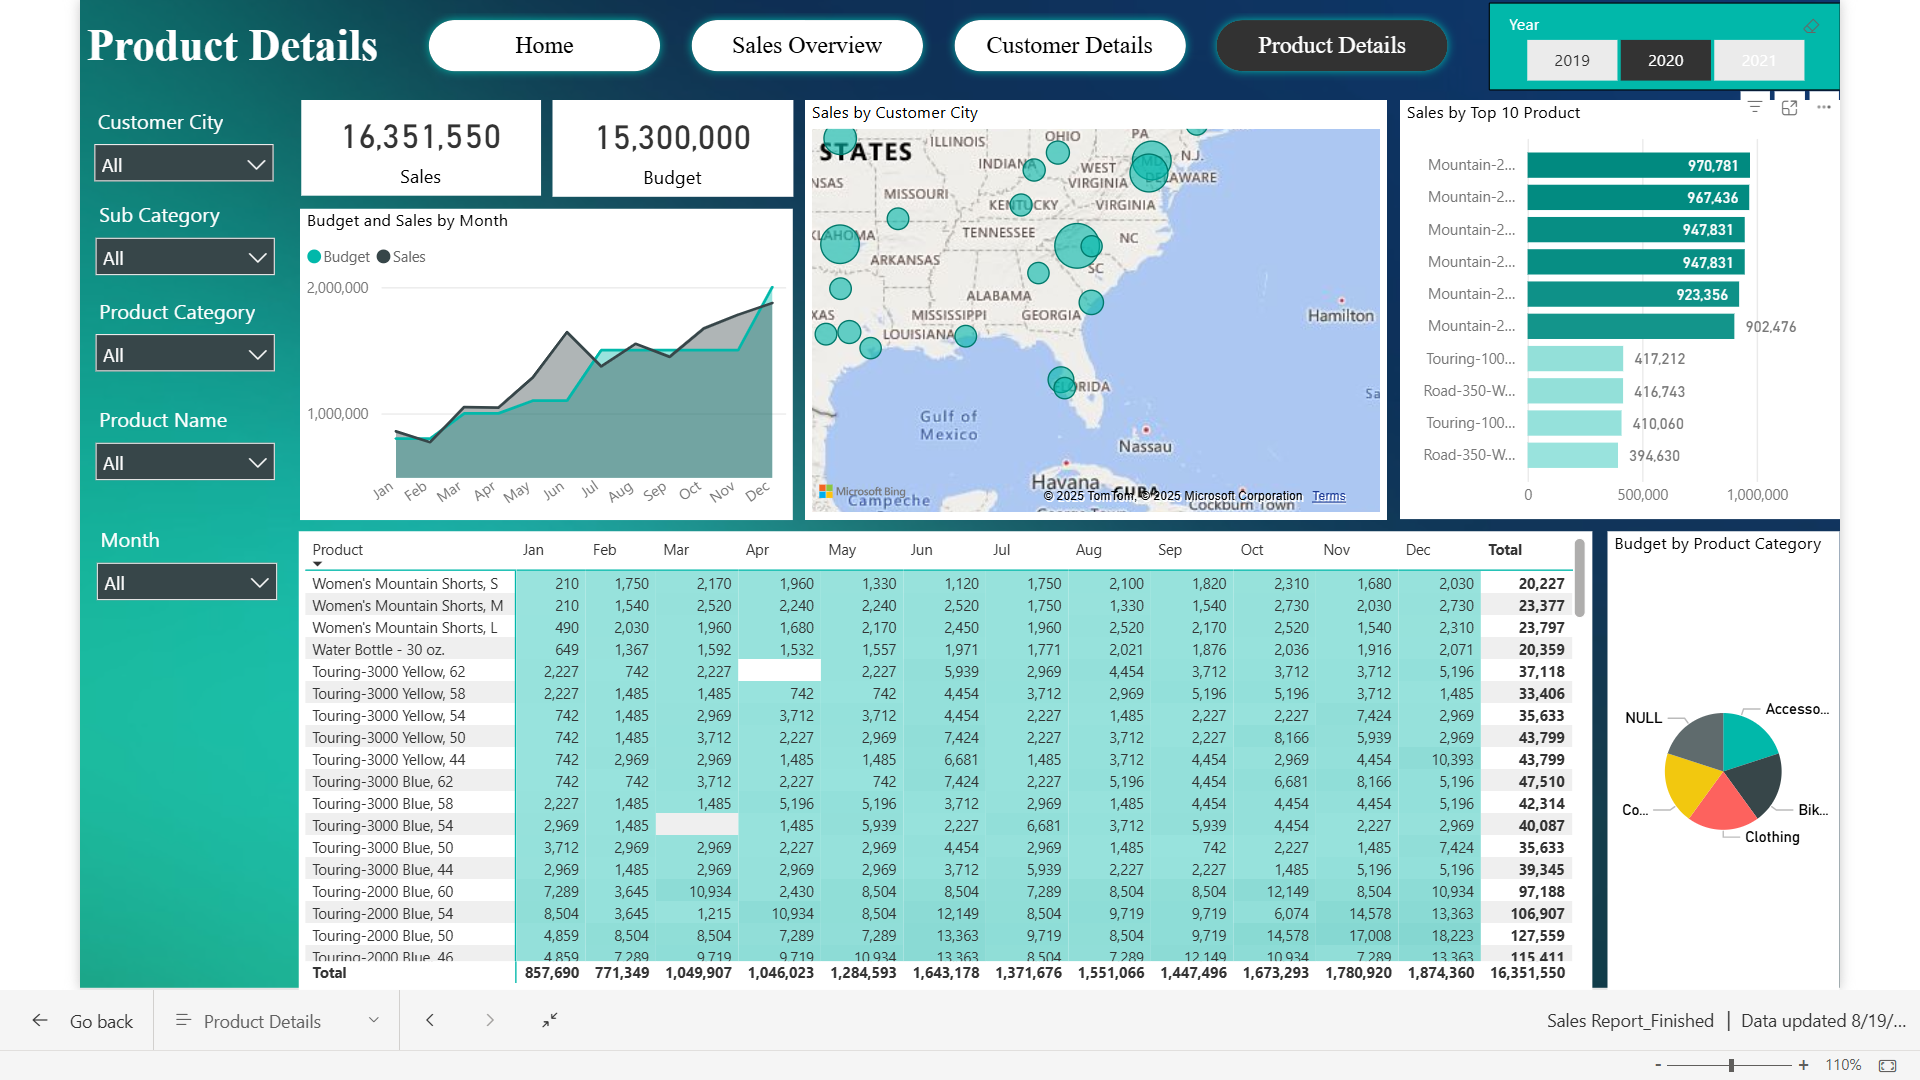

The page's visual inventory and layout, read from the dashboard file:
{"tool":"powerbi","page":{"name":"Product Details","canvas":[1280,720],"ordinal":3},"visuals":[{"type":"textbox","box":[0,8.8,231.2,55],"z":0},{"type":"lineChart","fields":{"Category":["DIM_Calendar.MonthShort"],"Y":["Analysis Metrics.Budget","Analysis Metrics.Sales"]},"box":[159.8,151.8,358.7,226.4],"z":1000},{"type":"card","fields":{"Values":["Analysis Metrics.Sales"]},"box":[160.7,72.8,174,69.2],"z":2000},{"type":"map","fields":{"Category":["DIM_Customers.Customer City"],"Size":["Analysis Metrics.Sales"]},"box":[527.3,72.8,423.5,304.5],"z":3000},{"type":"card","fields":{"Values":["Analysis Metrics.Budget"]},"box":[343.6,72.8,174.9,70.1],"z":4000},{"type":"pivotTable","fields":{"Rows":["DIM_Products.Product Name"],"Columns":["DIM_Calendar.MonthShort"],"Values":["Analysis Metrics.Sales"]},"box":[159.5,386.5,941.1,333.7],"z":5000},{"type":"clusteredBarChart","title":"Sales by Top 10 Product","fields":{"Category":["DIM_Products.Product Name"],"Y":["Analysis Metrics.Sales"]},"box":[959.7,72.8,320.5,304.5],"z":6000},{"type":"slicer","fields":{"Values":["DIM_Customers.Customer City"]},"box":[0,72.4,150.9,78.5],"z":7000},{"type":"slicer","fields":{"Values":["DIM_Products.Sub Category"]},"box":[1.2,141.1,150.9,78.5],"z":8000},{"type":"slicer","fields":{"Values":["DIM_Products.Product Category"]},"box":[1.2,211,150.9,78.5],"z":9000},{"type":"slicer","fields":{"Values":["DIM_Products.Product Name"]},"box":[1.2,289.6,150.9,81],"z":10000},{"type":"slicer","fields":{"Values":["DIM_Calendar.Year"]},"box":[1024.3,1.4,255.7,64.3],"z":11000},{"type":"slicer","fields":{"Values":["DIM_Calendar.Month"]},"box":[1.4,377.1,151.4,80],"z":12000},{"type":"pageNavigator","box":[247.1,8.6,754.3,50],"z":13000},{"type":"pieChart","fields":{"Category":["DIM_Products.Product Category"],"Y":["Analysis Metrics.Budget"]},"box":[1111.2,386.2,168.8,333.8],"z":14000},{"type":"slicer","fields":{"Values":["DIM_Calendar.Year"]},"box":[1023.8,0,256.2,63.8],"z":14001}]}

Visuals, with their boxes on the page's 1280x720 design canvas (x1, y1, x2, y2). These are canvas units, not pixel positions in the 1920x1080 screenshot, which may show the page scaled, cropped or inside an application window:
textbox: BBox(0, 9, 231, 64)
lineChart - DIM_Calendar.MonthShort x Analysis Metrics.Budget: BBox(160, 152, 518, 378)
card - Analysis Metrics.Sales: BBox(161, 73, 335, 142)
map - DIM_Customers.Customer City x Analysis Metrics.Sales: BBox(527, 73, 951, 377)
card - Analysis Metrics.Budget: BBox(344, 73, 518, 143)
pivotTable - DIM_Products.Product Name x DIM_Calendar.MonthShort: BBox(160, 386, 1101, 720)
"Sales by Top 10 Product" clusteredBarChart: BBox(960, 73, 1280, 377)
slicer - DIM_Customers.Customer City: BBox(0, 72, 151, 151)
slicer - DIM_Products.Sub Category: BBox(1, 141, 152, 220)
slicer - DIM_Products.Product Category: BBox(1, 211, 152, 290)
slicer - DIM_Products.Product Name: BBox(1, 290, 152, 371)
slicer - DIM_Calendar.Year: BBox(1024, 1, 1280, 66)
slicer - DIM_Calendar.Month: BBox(1, 377, 153, 457)
pageNavigator: BBox(247, 9, 1001, 59)
pieChart - DIM_Products.Product Category x Analysis Metrics.Budget: BBox(1111, 386, 1280, 720)
slicer - DIM_Calendar.Year: BBox(1024, 0, 1280, 64)
